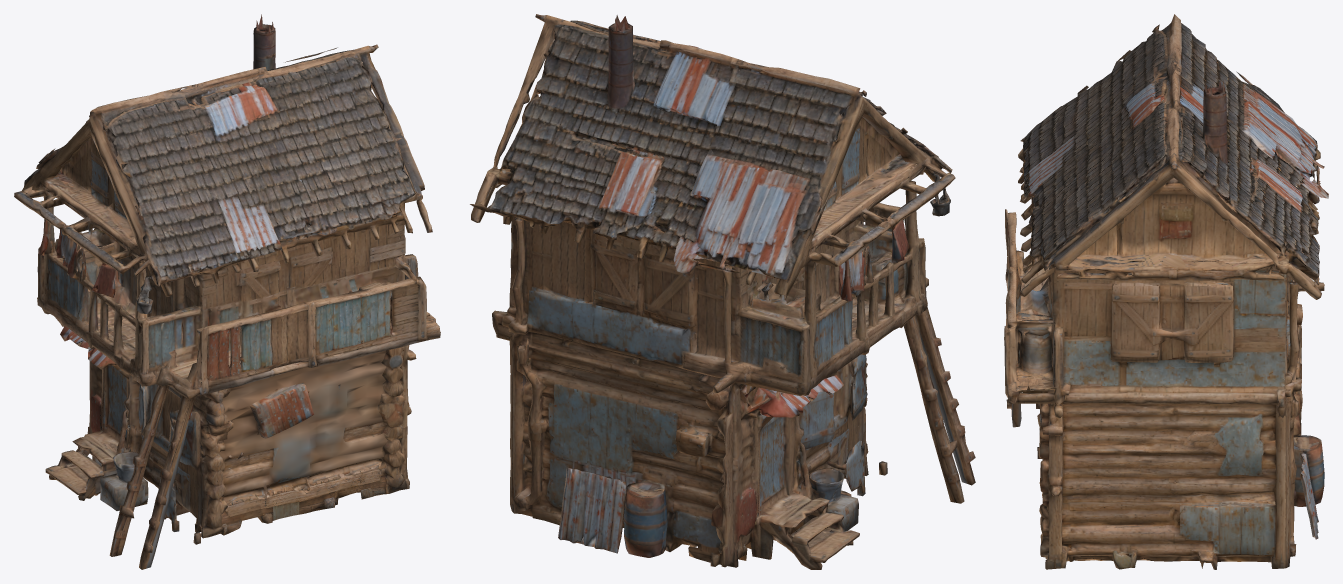
Rendered from House_TwoStory.fbx.
3 views of the same model, side by side, from view 1: azimuth 30°, elevation 25°; view 2: azimuth 150°, elevation 25°; view 3: azimuth 270°, elevation 25° (orthographic). The views are drawn at different scales.
Parts seen in each view (by area): view 1: texture_mapping; view 2: texture_mapping; view 3: texture_mapping.
Boxes of the visible parts, x1,y1,x2,y2 form: texture_mapping: [14, 14, 440, 569]; texture_mapping: [470, 14, 975, 569]; texture_mapping: [1004, 14, 1328, 569].
Size of the model in its own units: 0.7769 by 0.9963 by 0.6384.
1 material, 1 textured.
